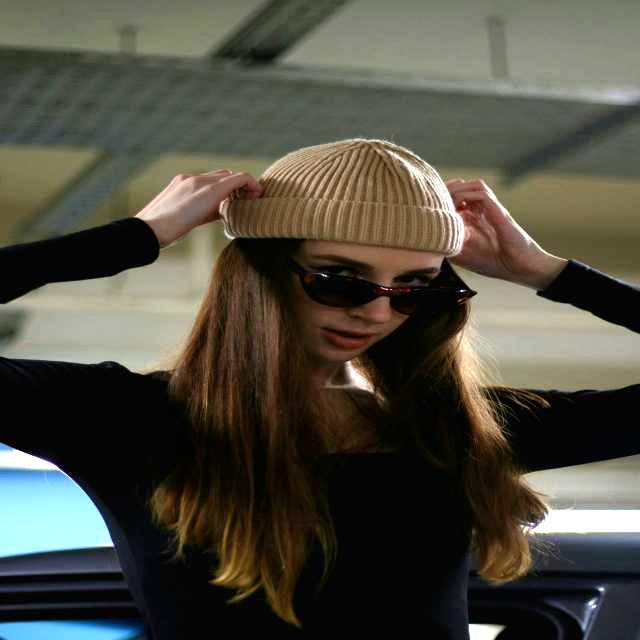no_hard_hat: (220, 139, 463, 256)
person: (0, 140, 640, 640)
